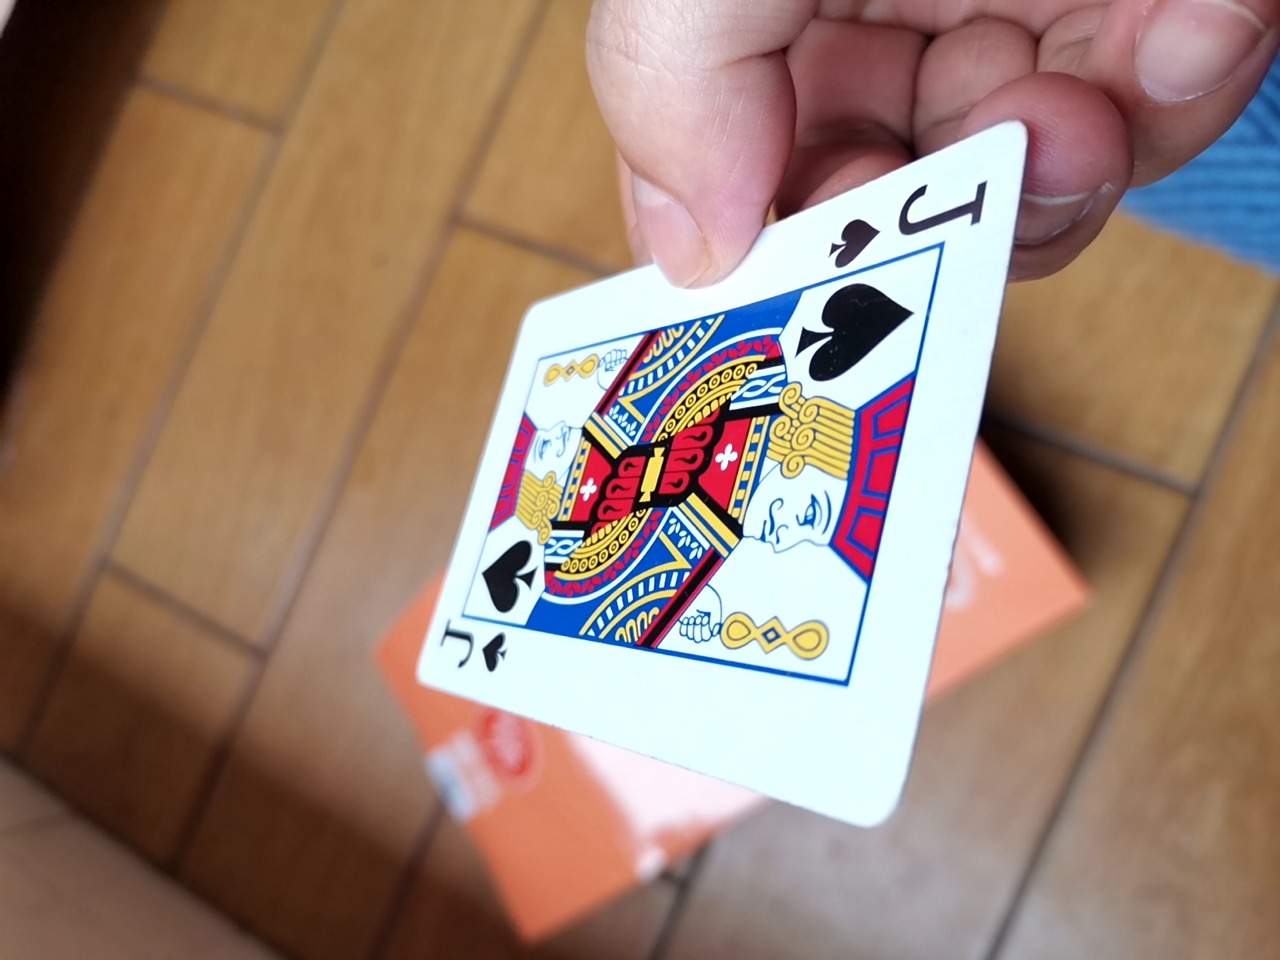ht j: (395, 136, 1027, 837)
